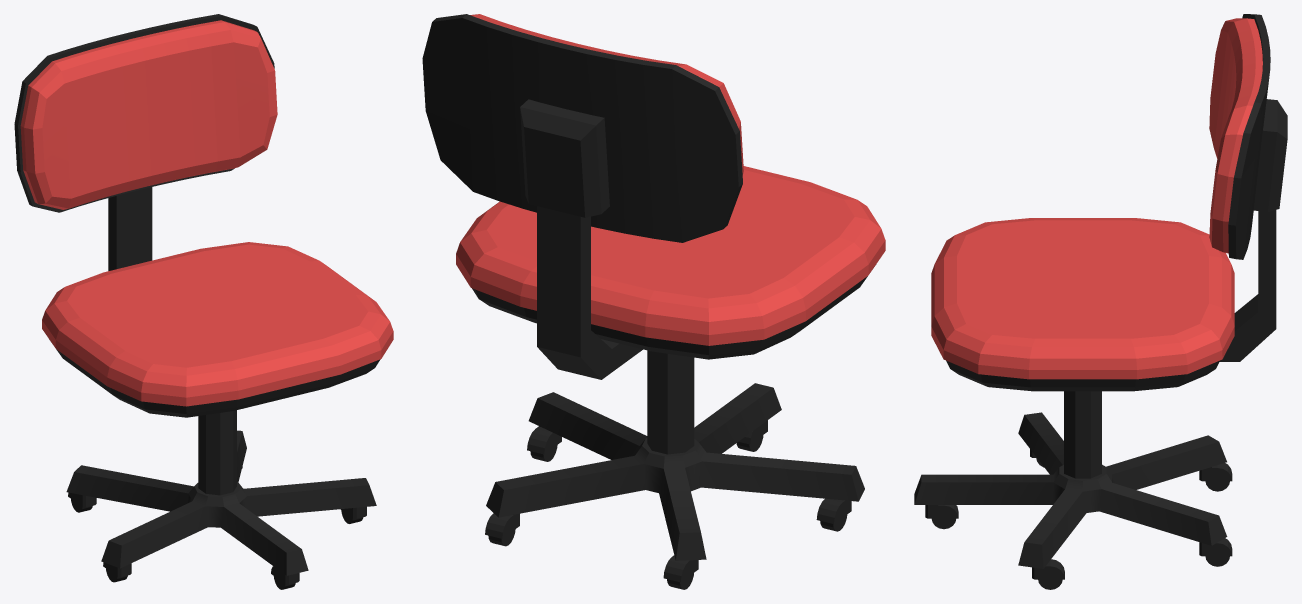
The model's file is player_chair.fbx.
3 renders of one model, left to right at view 1: azimuth 30°, elevation 25°; view 2: azimuth 150°, elevation 25°; view 3: azimuth 270°, elevation 25°, orthographic. The views are drawn at different scales.
Parts seen in each view (by area): view 1: chair, base; view 2: chair, base, wheel2, wheel5, wheel4, wheel3; view 3: chair, base, wheel3, wheel5, wheel4, wheel1.
Boxes of the visible parts, x1=… form: chair: x1=14, y1=14, x2=393, y2=495; base: x1=66, y1=430, x2=376, y2=575; chair: x1=422, y1=14, x2=885, y2=454; base: x1=486, y1=383, x2=864, y2=560; wheel2: x1=816, y1=498, x2=851, y2=531; wheel5: x1=527, y1=426, x2=561, y2=461; wheel4: x1=485, y1=513, x2=519, y2=546; wheel3: x1=663, y1=555, x2=698, y2=589; chair: x1=931, y1=14, x2=1287, y2=478; base: x1=914, y1=412, x2=1227, y2=568; wheel3: x1=1199, y1=463, x2=1232, y2=491; wheel5: x1=1032, y1=559, x2=1064, y2=589; wheel4: x1=1199, y1=538, x2=1232, y2=566; wheel1: x1=925, y1=505, x2=958, y2=529.
Size of what is drawn, in the model's own units: 0.7356 by 1.14 by 0.8277.
